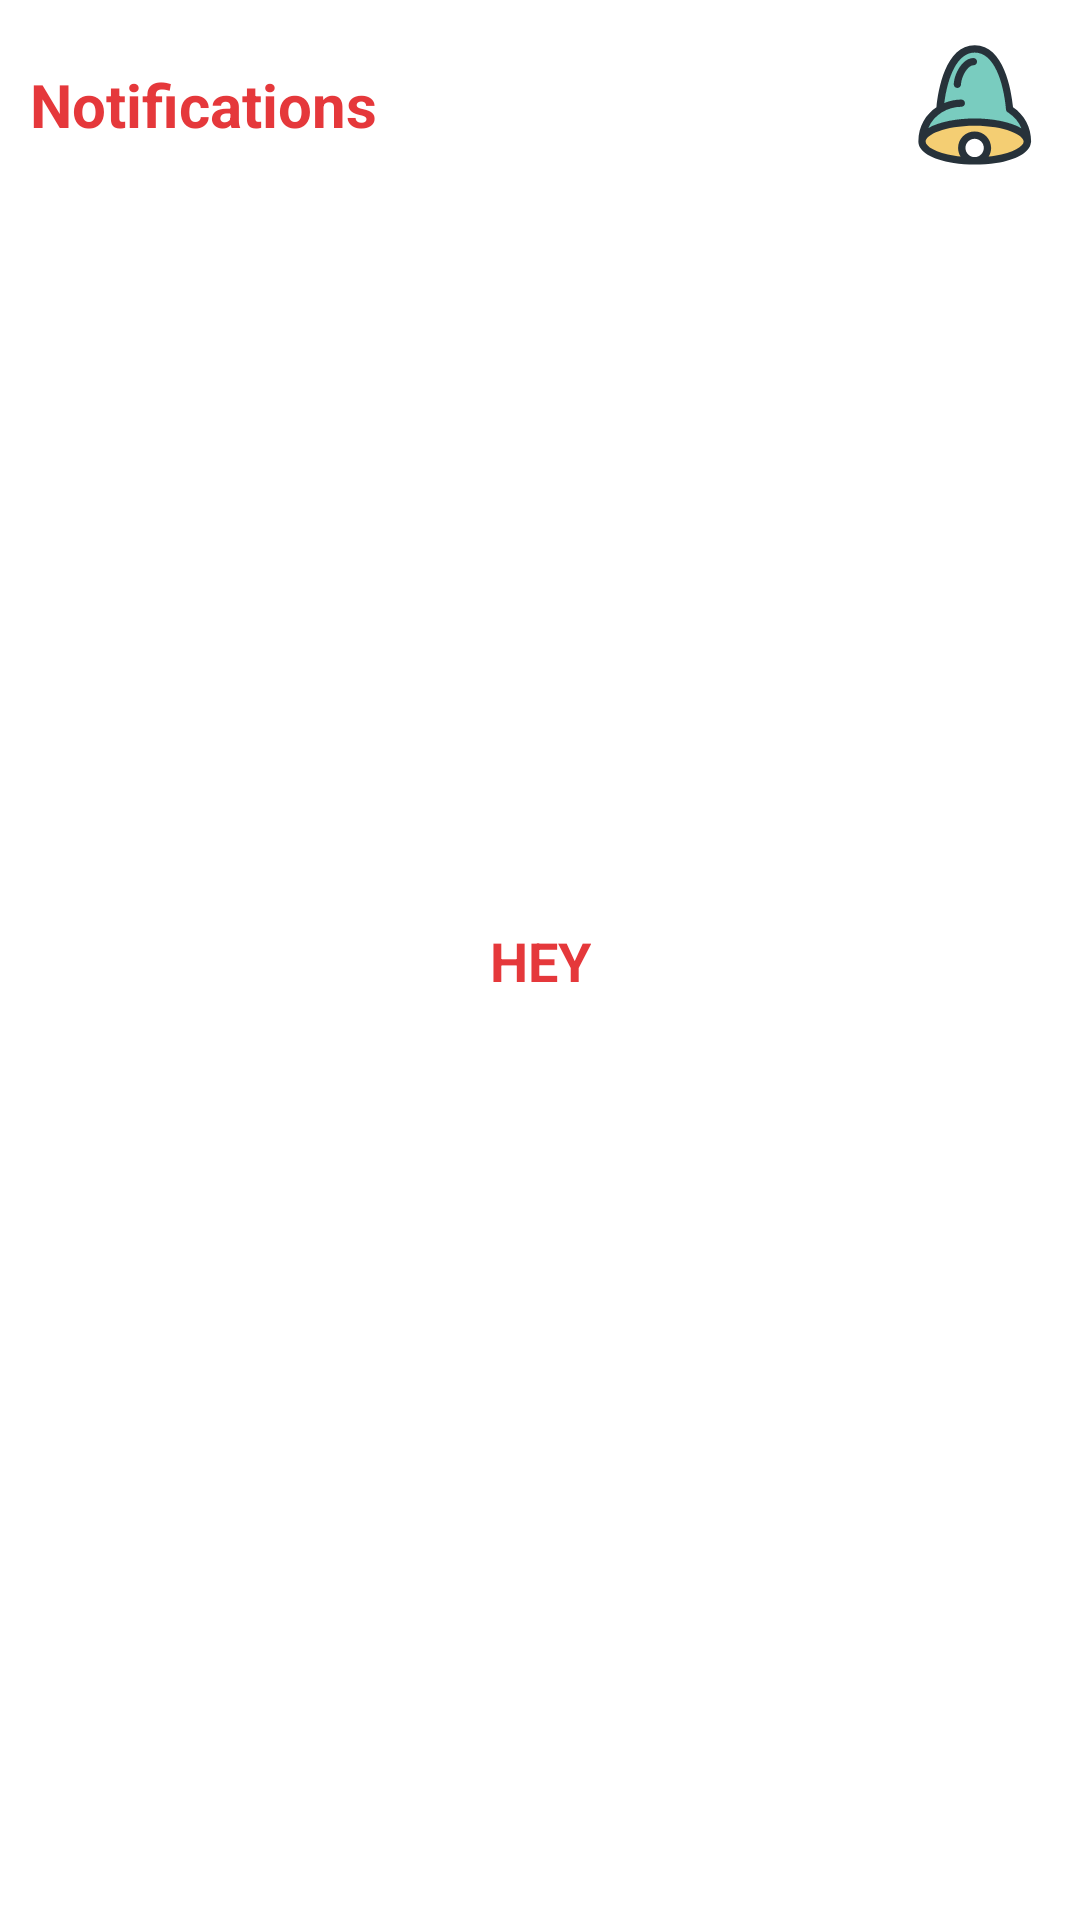

Where icons sit on this 1080x1920 app screen, as [x1=x1, y1=y1, x2=x2, y2=y2]:
notification: [x1=918, y1=45, x2=1031, y2=165]
